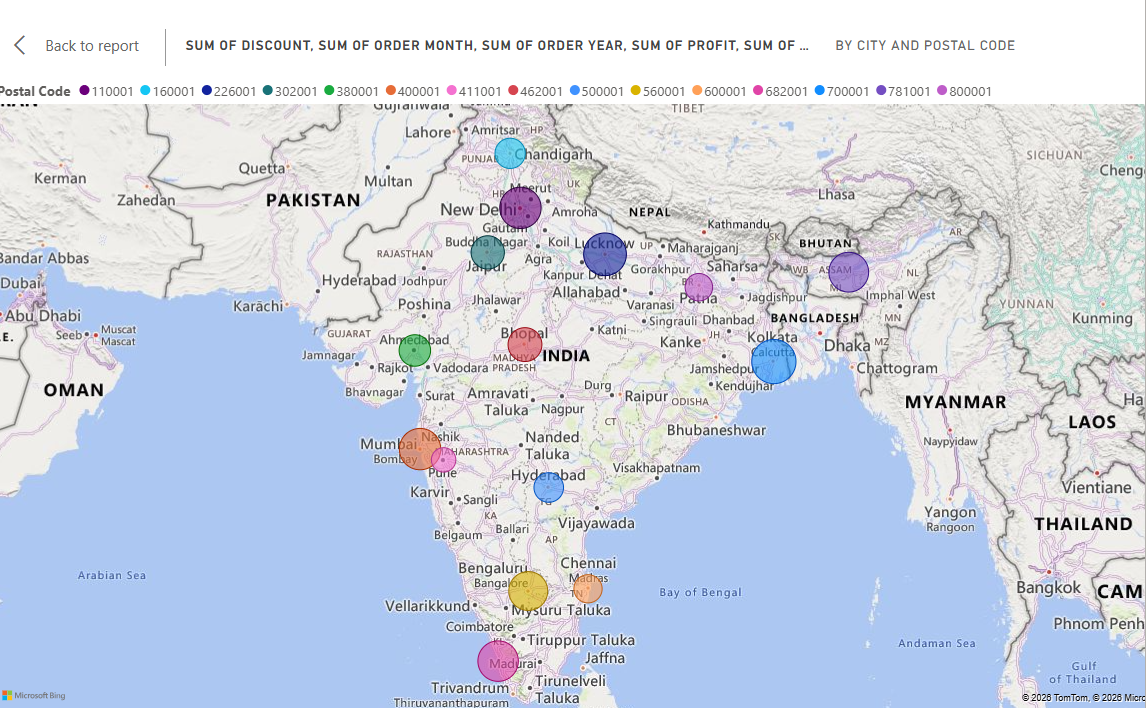

Layout of this report page (visuals, bound fields, positions):
{"tool":"powerbi","page":{"name":"Page 1","canvas":[1280,720],"ordinal":0},"visuals":[{"type":"filledMap","fields":{"Series":["Superstore_India.Postal Code"],"Category":["Superstore_India.City"]},"box":[10,0,280,280],"z":0}]}

Visuals, with their boxes on the page's 1280x720 design canvas (x1, y1, x2, y2). These are canvas units, not pixel positions in the 1146x708 screenshot, which may show the page scaled, cropped or inside an application window:
filledMap - Superstore_India.Postal Code x Superstore_India.City: x1=10 y1=0 x2=290 y2=280
